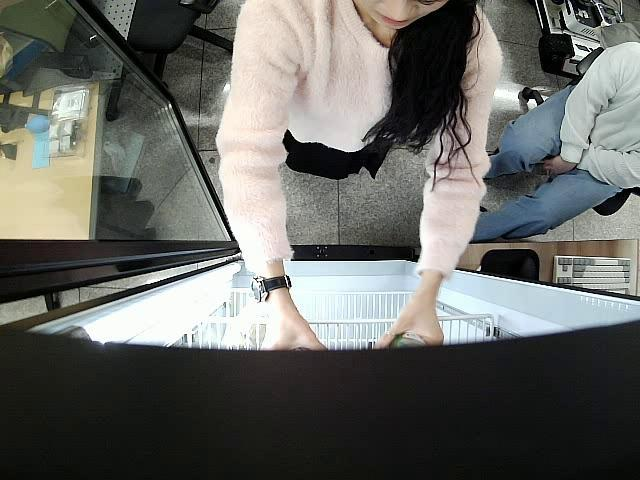18_trevi: (388, 330, 429, 350)
